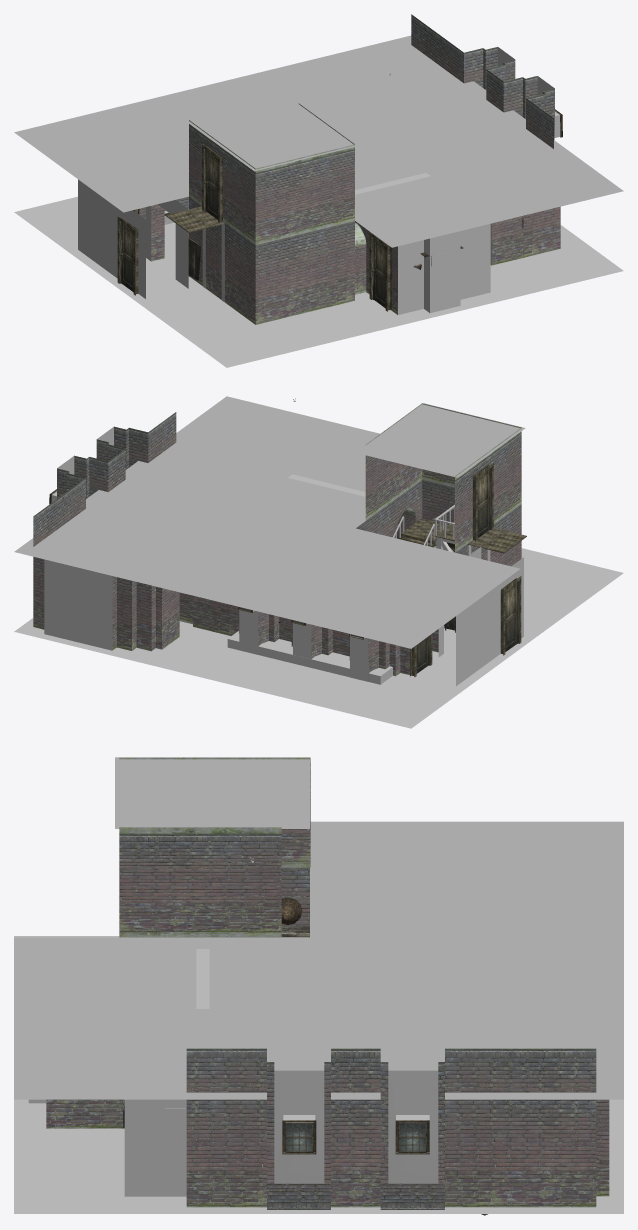
The picture shows the model from 3 angles, top to bottom: view 1: azimuth 30°, elevation 25°; view 2: azimuth 150°, elevation 25°; view 3: azimuth 270°, elevation 25°; orthographic projection. The views are drawn at different scales.
Visible parts, largest first — view 1: polySurface1; view 2: polySurface1; view 3: polySurface1.
Boxes of the visible parts, x1,y1,x2,y2 form: polySurface1: (14,14,623,367); polySurface1: (14,396,623,728); polySurface1: (14,757,623,1215).
Bounding box in the file's own units: 1459 × 578 × 1251.
